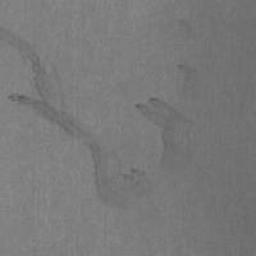Water spot: (0, 23, 155, 212), (132, 96, 195, 170), (175, 61, 200, 100), (174, 17, 192, 41)
